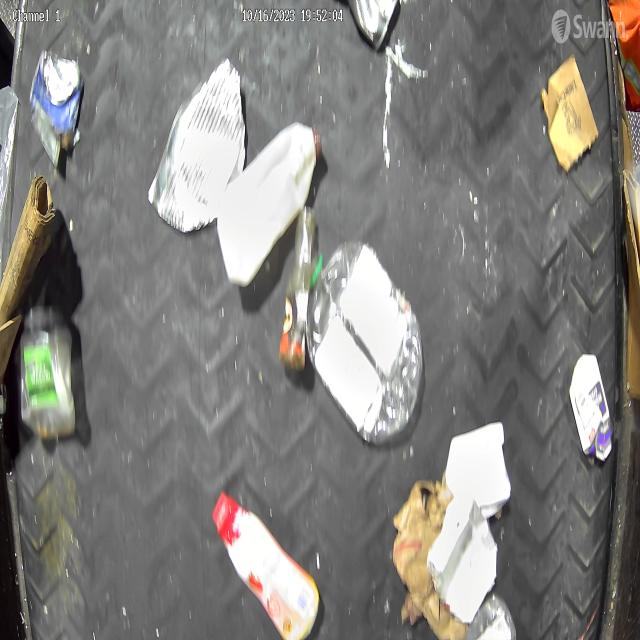can: (147, 64, 246, 226), (29, 51, 83, 166), (344, 0, 402, 53)
milk_jug: (217, 120, 324, 296)
non_white_jug: (213, 487, 319, 640)
plastic_bottle: (307, 234, 422, 441)
